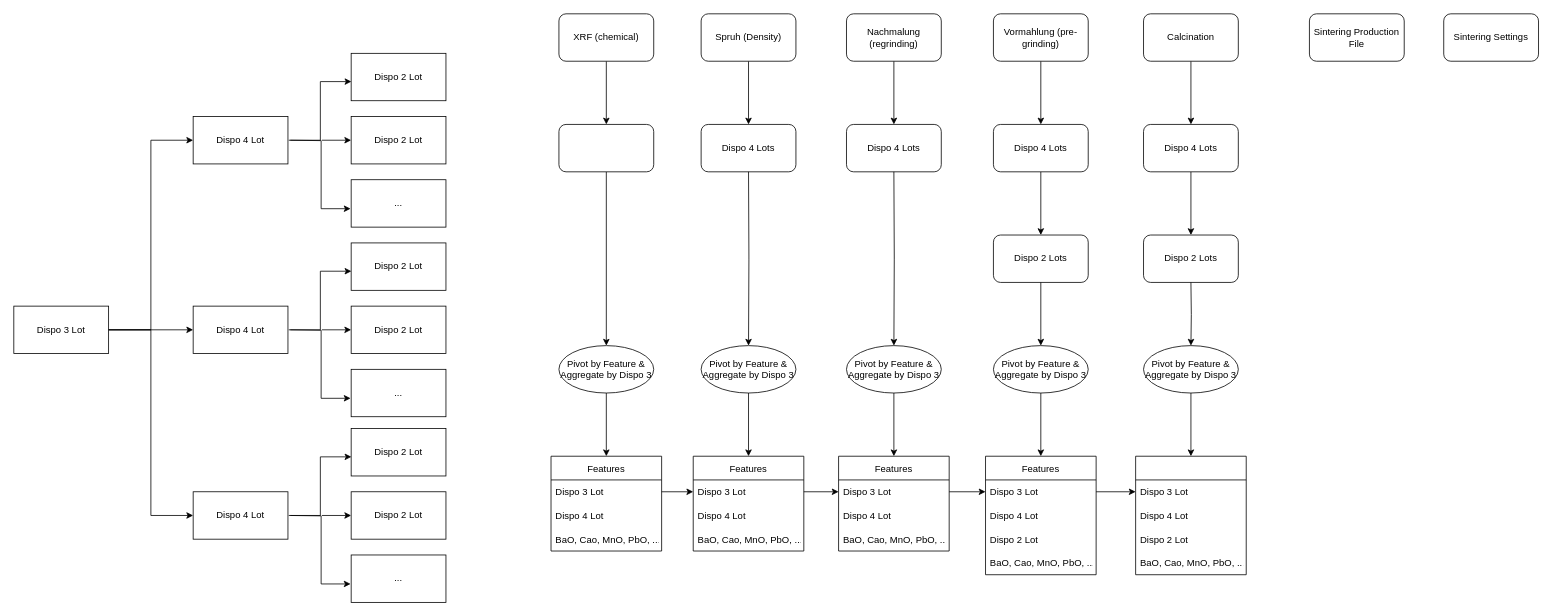
Some shapes in this 1552 by 616 pixel diagram are drawn without their labels. The box of each missing label's shape, as (x1, y1, x2, y2) in pixels:
Dispo 4 Lots (around 5 lots from 1 D3): (558, 124, 654, 172)
List: (1135, 455, 1246, 575)
